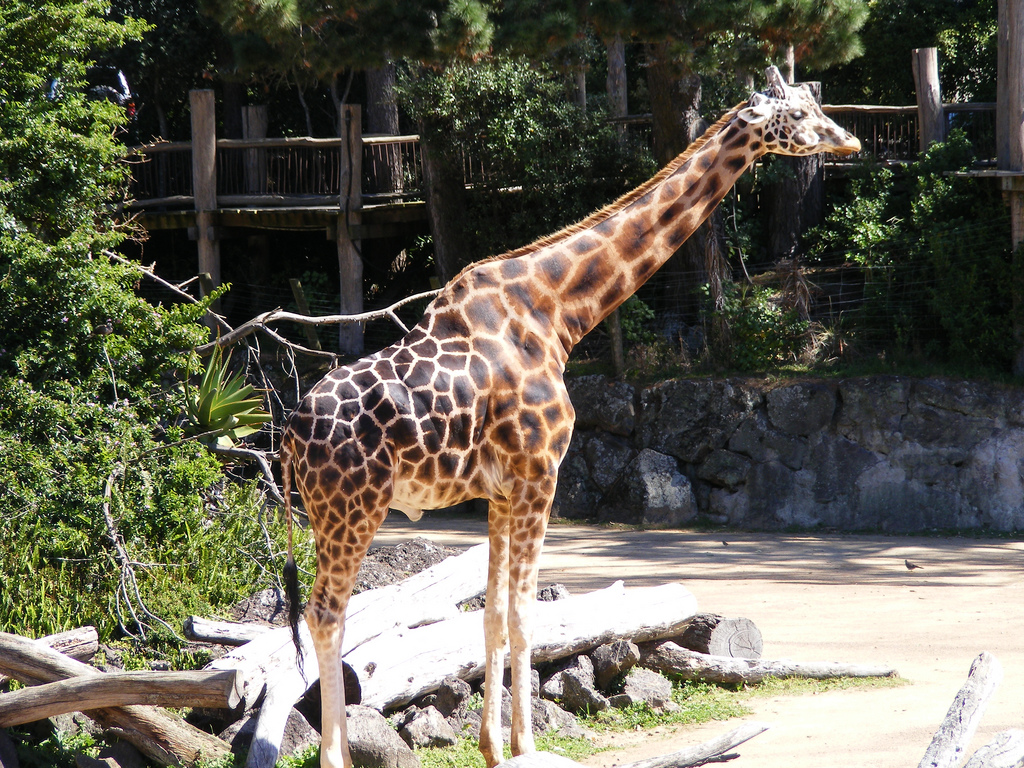giraffe: (215, 43, 877, 731)
